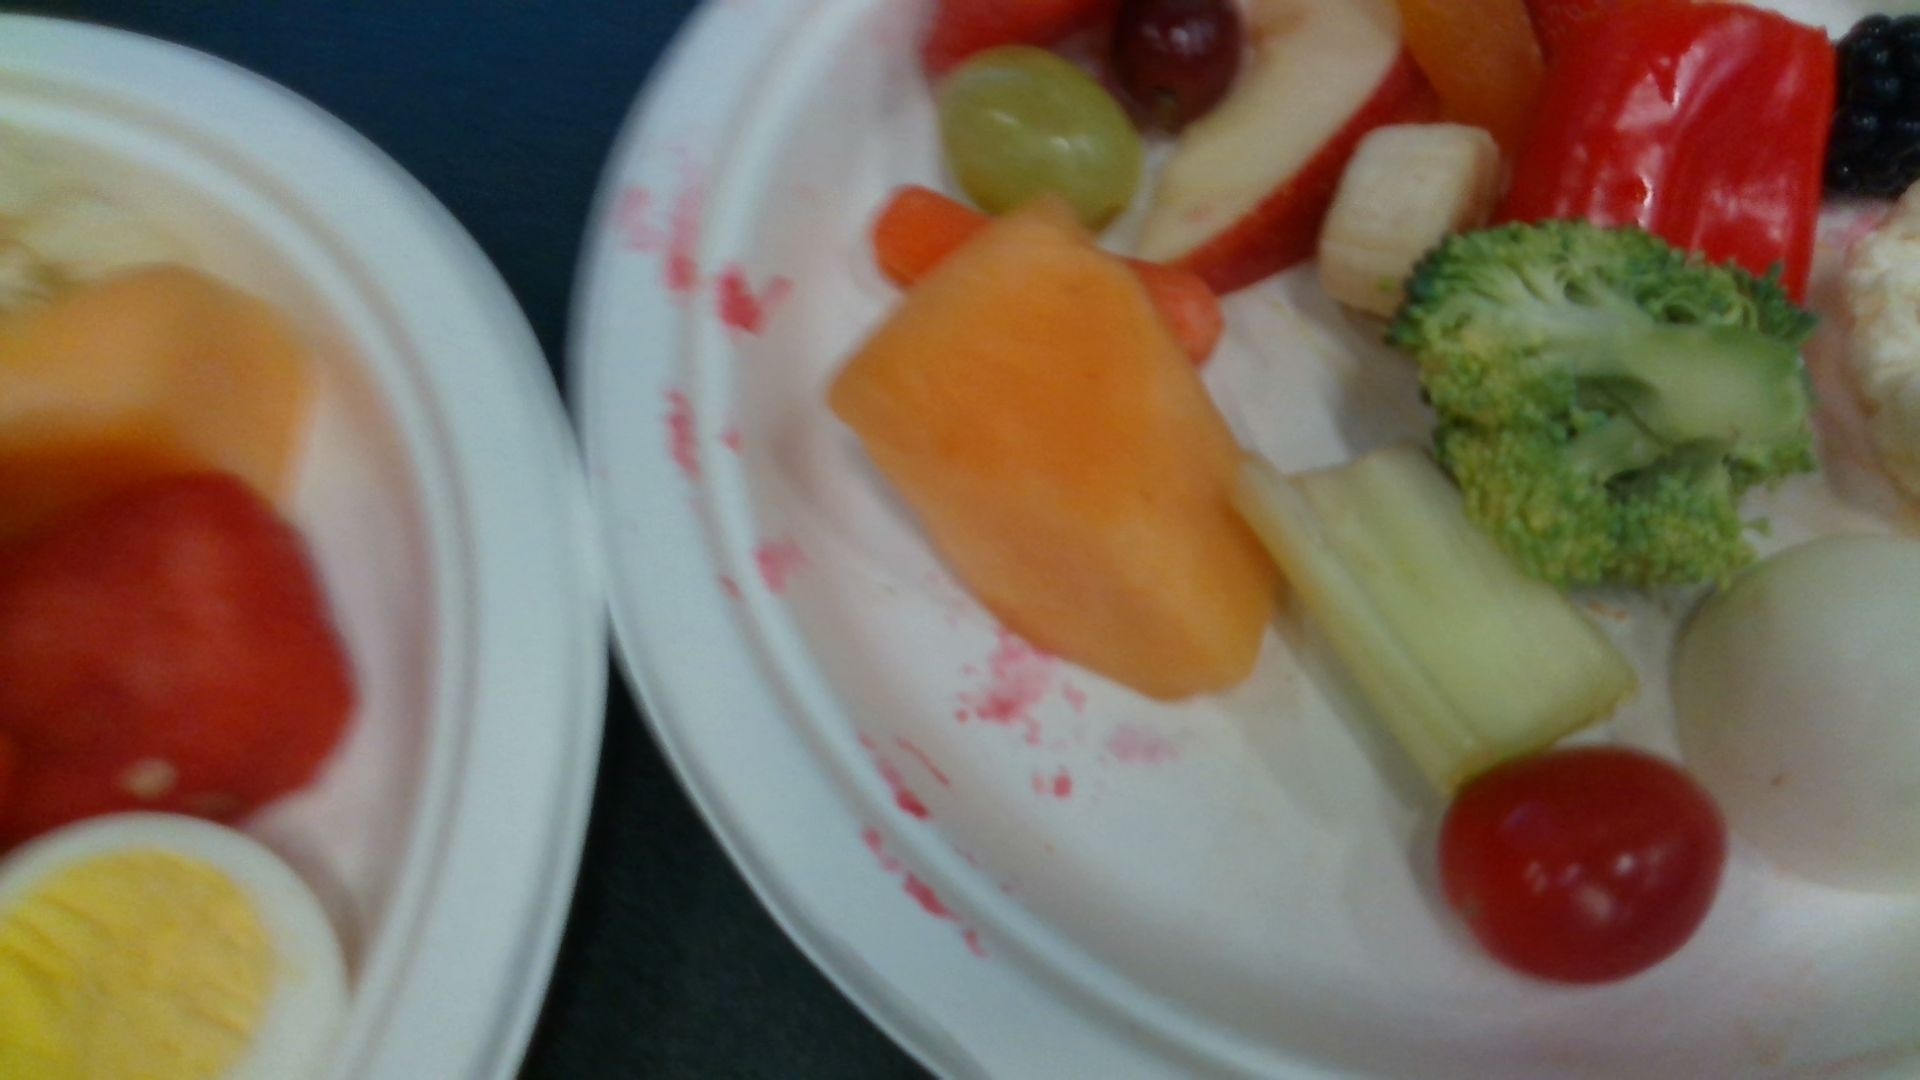apple: (1124, 1, 1418, 291)
banana: (1315, 120, 1497, 315)
bell_pepper: (1499, 1, 1833, 303)
broccoli: (1390, 222, 1804, 589)
cantalope: (829, 200, 1274, 698), (1, 264, 322, 510)
carrot: (872, 190, 1222, 356)
celery: (1225, 448, 1630, 791)
cherry_tomato: (1437, 756, 1720, 985)
egg: (1, 811, 349, 1080), (1680, 538, 1920, 893)
grape_green: (949, 50, 1139, 222)
grape_purple: (1117, 1, 1240, 131)
melon: (1, 475, 360, 861)
